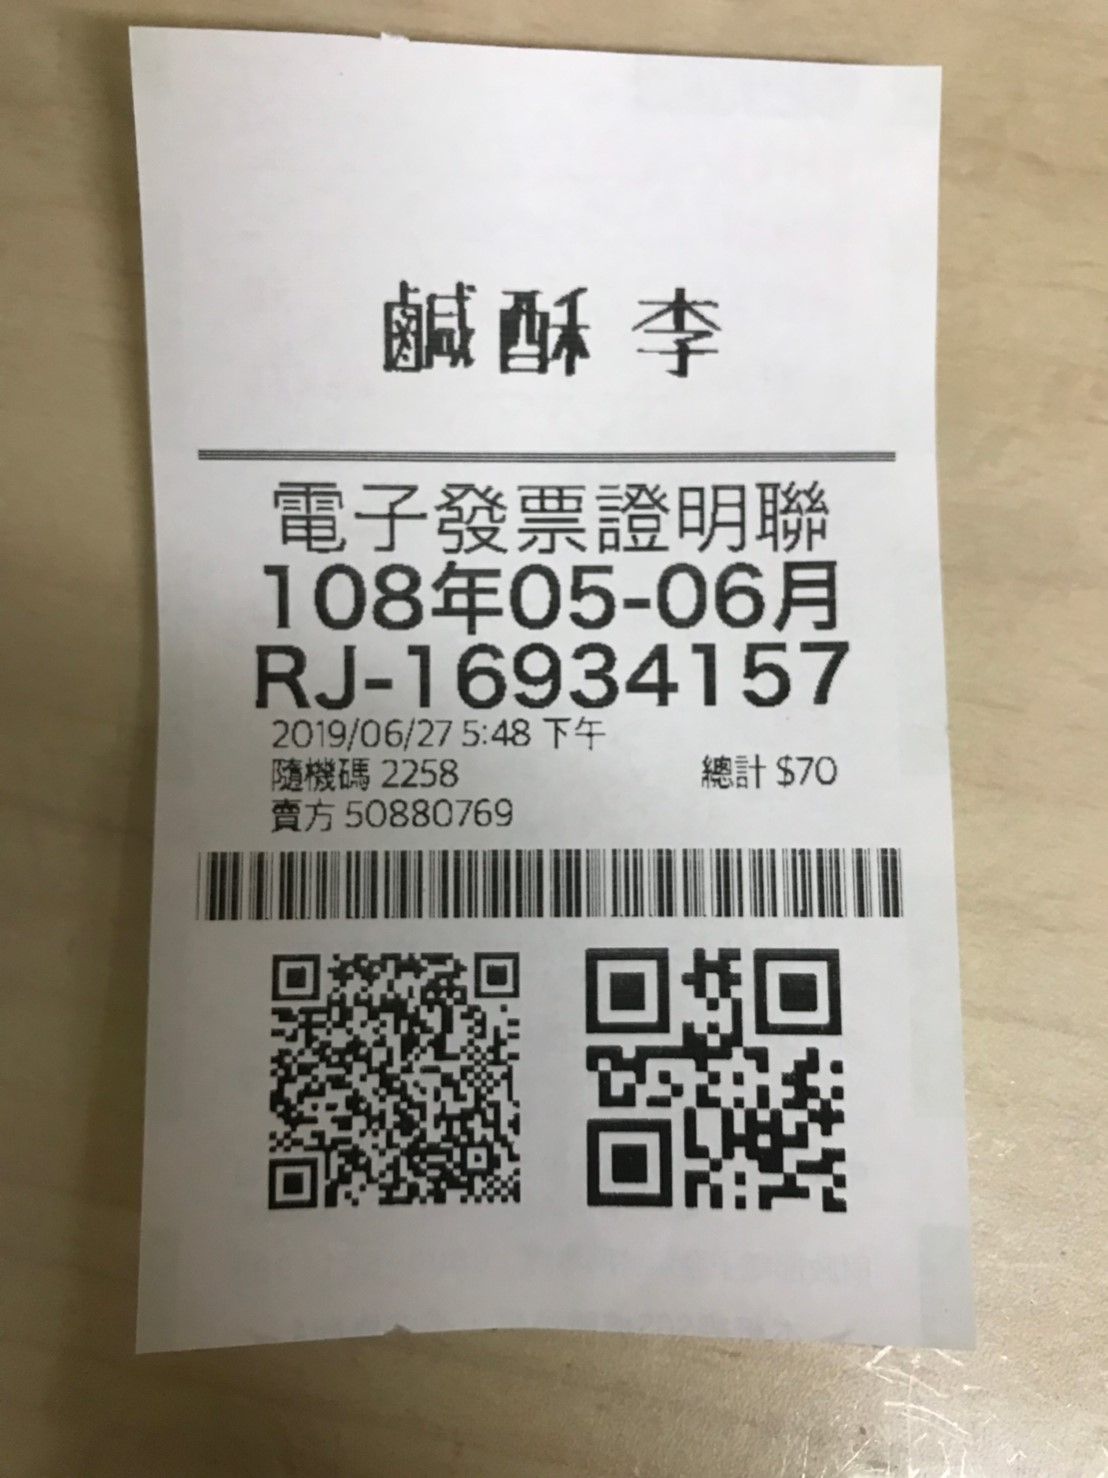Date_New: (260, 556, 841, 637)
Number_New: (404, 644, 852, 708)
